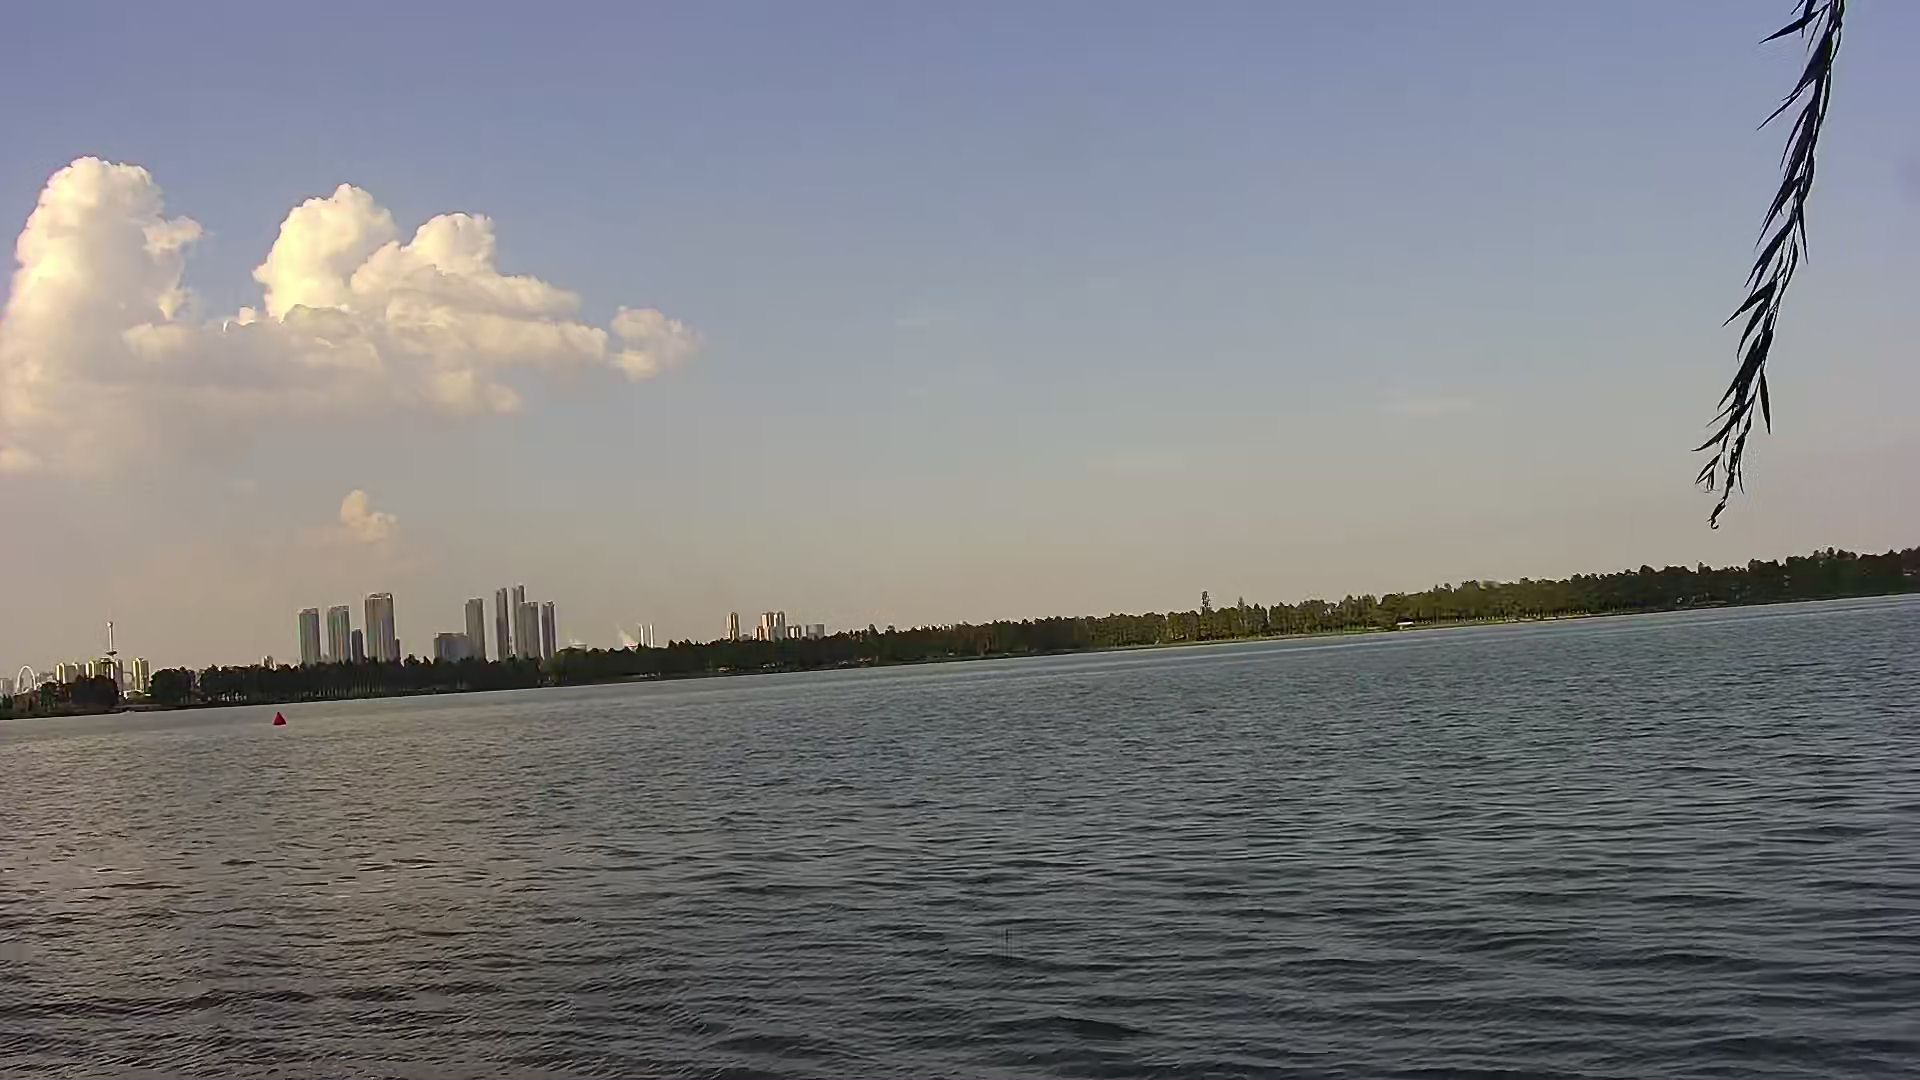rubbish: (269, 708, 287, 731)
